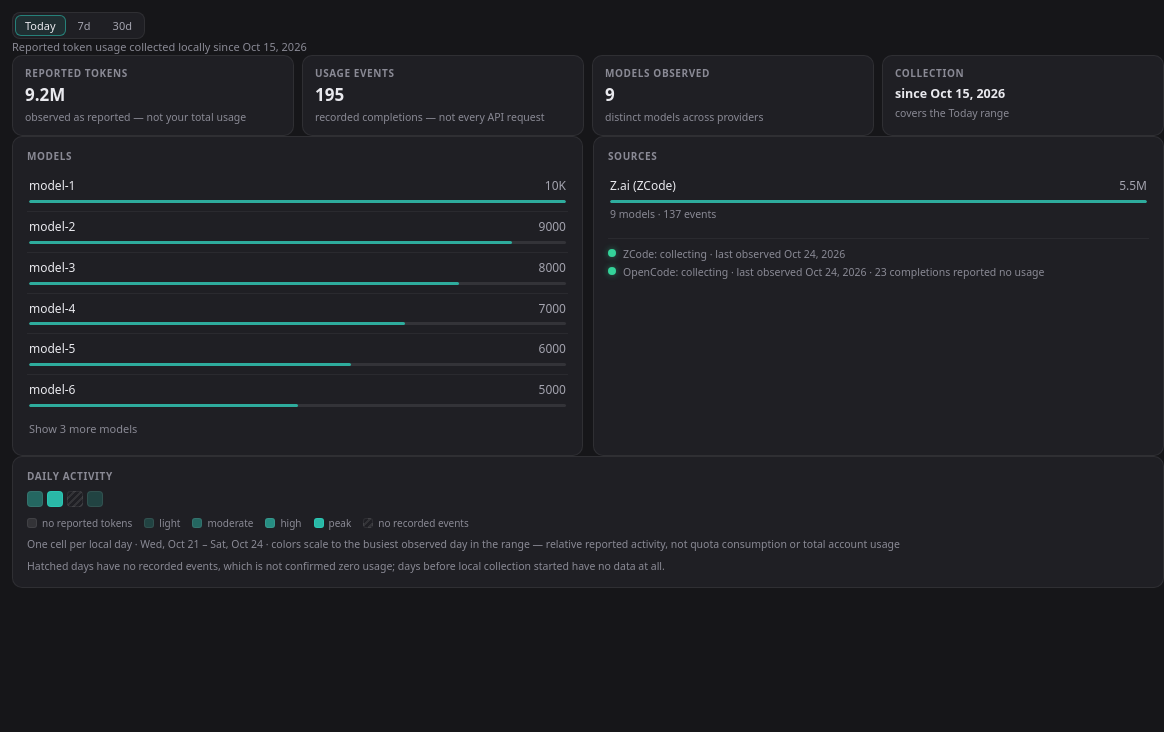
Test case: UsageOverview › keeps the default ranking compact and reveals the rest on demand
Click the button "Show 3 more models" at point(83, 429), box [27, 415, 139, 442]
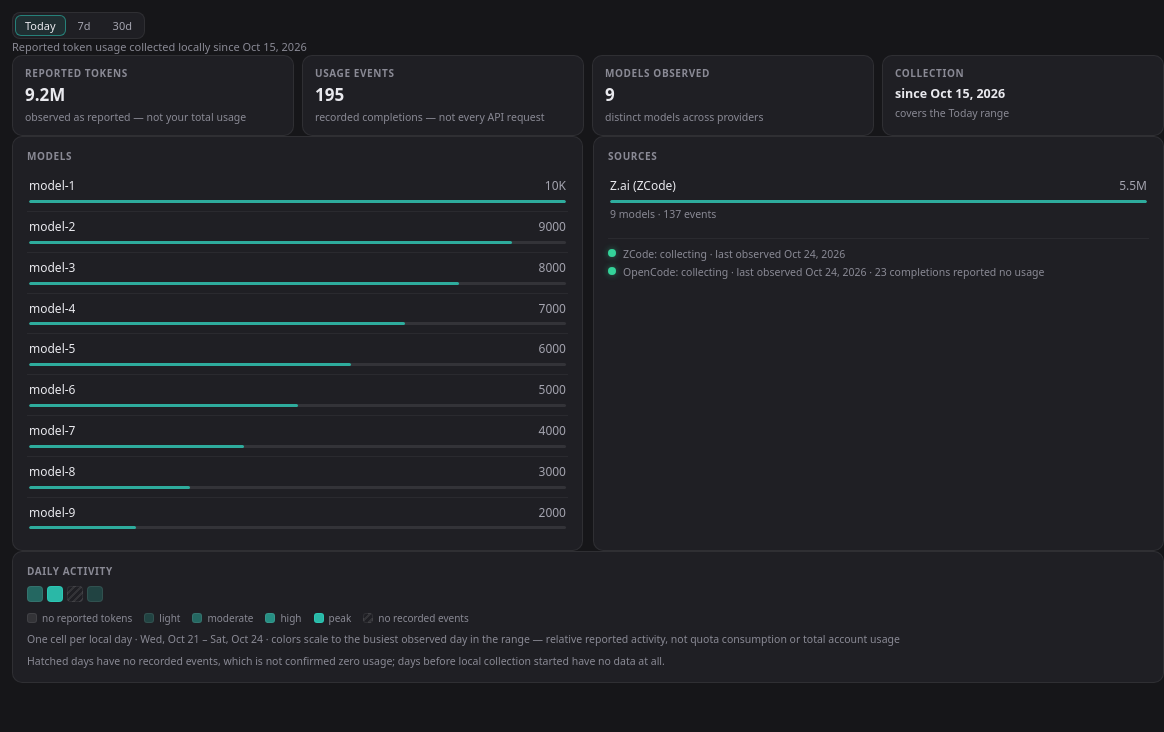
Check: the button "Show 3 more models" is gone
